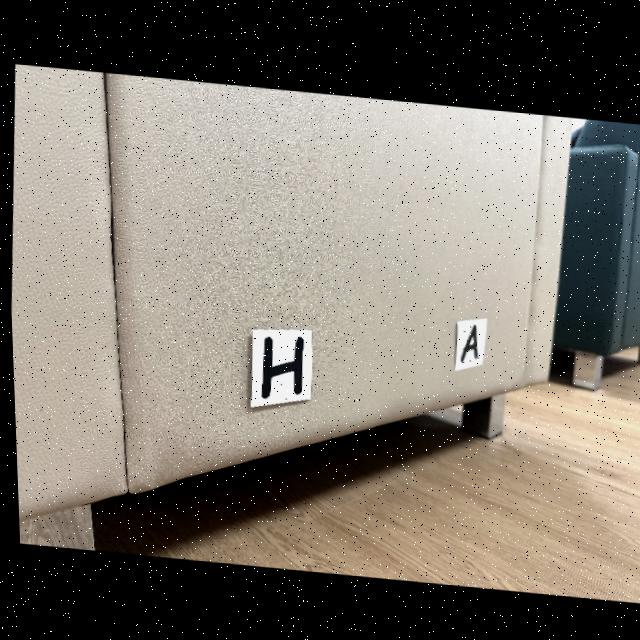A: (459, 321, 476, 358)
H: (259, 335, 301, 396)
